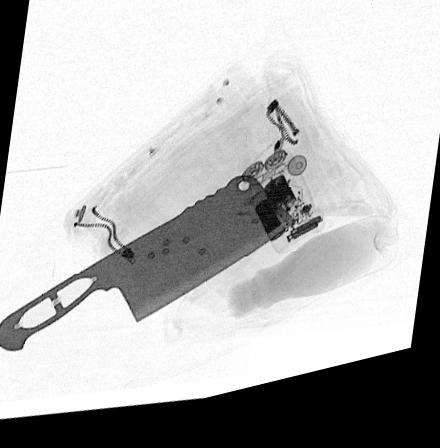Knife: (0, 183, 291, 353)
